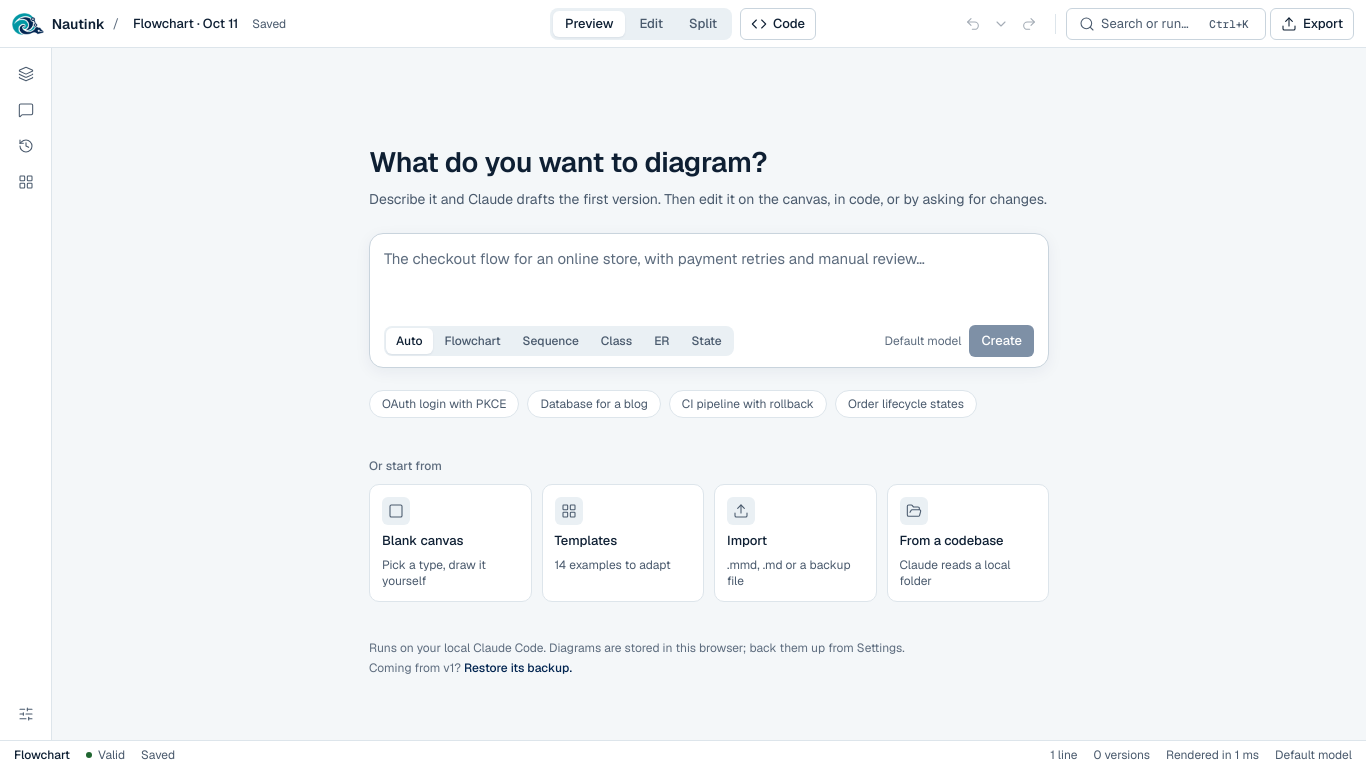
it: first run › leaves when a panel is opened from the rail
Expected: the heading "What do you want to diagram?" is shown, [369,144,767,180]
Click the button named "History" at (26, 146), box [10,130,42,162]
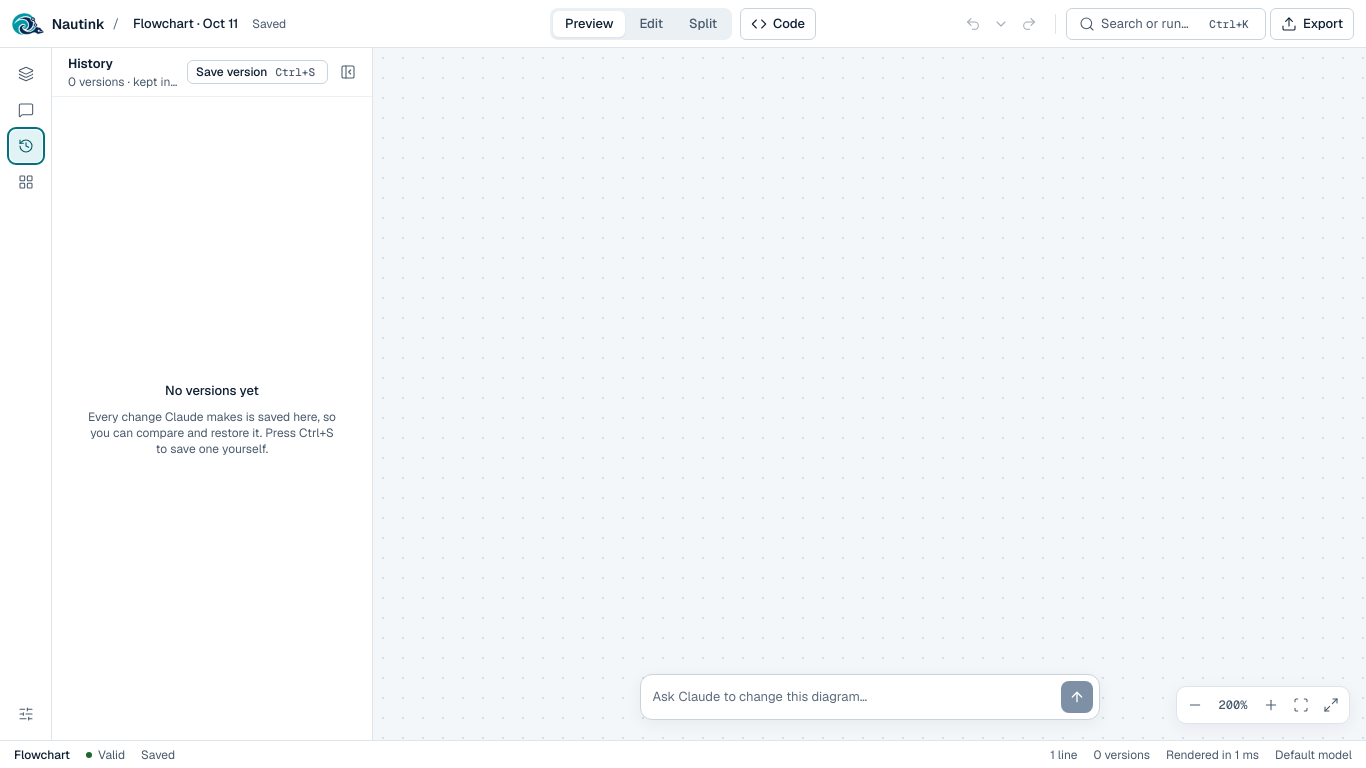
Result: the element "History" is shown at [52,48,372,740]
Result: the element named "Canvas" is shown
